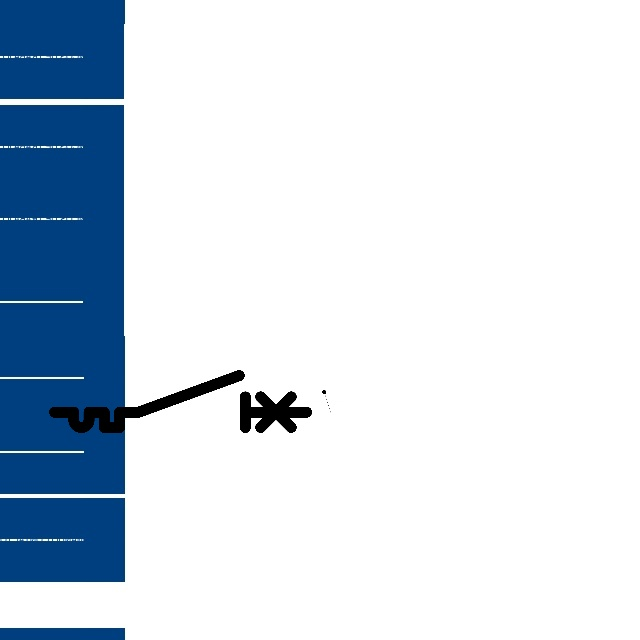interruptor_termomagnetico: (48, 369, 313, 434)
